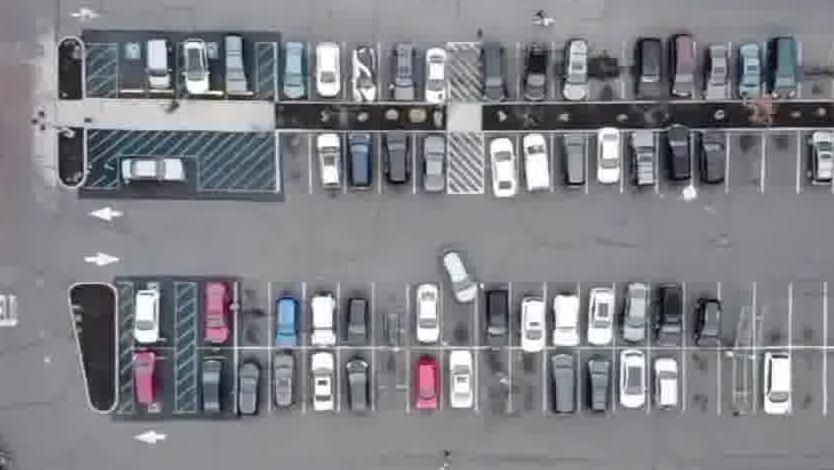car: (439, 244, 481, 306), (442, 349, 480, 416), (758, 352, 793, 422), (764, 33, 800, 98), (633, 39, 668, 104), (487, 136, 522, 201), (121, 153, 192, 185), (670, 36, 701, 105), (695, 133, 731, 192), (303, 354, 336, 418), (547, 358, 579, 424), (617, 349, 651, 411), (315, 133, 348, 196), (661, 127, 694, 190), (583, 355, 615, 418), (481, 287, 512, 352), (479, 44, 510, 108), (523, 141, 556, 201), (518, 295, 552, 353), (656, 283, 687, 346), (649, 354, 680, 417), (557, 132, 589, 193), (201, 279, 231, 344), (412, 279, 441, 344), (561, 38, 589, 105), (341, 358, 372, 418), (411, 352, 442, 412), (550, 293, 582, 351), (184, 37, 217, 93), (586, 288, 616, 349), (421, 138, 450, 200), (383, 135, 413, 194), (346, 133, 375, 194), (309, 295, 340, 352), (314, 37, 343, 97), (390, 45, 419, 105), (235, 359, 263, 421), (146, 35, 177, 91), (632, 133, 661, 192), (129, 350, 158, 409), (224, 37, 253, 95), (738, 45, 767, 103), (692, 296, 722, 352), (198, 356, 225, 418), (133, 286, 161, 345), (283, 39, 310, 100), (525, 44, 551, 107), (806, 129, 834, 187), (421, 50, 448, 110), (622, 281, 647, 345), (350, 48, 378, 105), (271, 353, 298, 412), (595, 124, 621, 185), (271, 296, 300, 349), (706, 45, 731, 106), (346, 299, 370, 352)
